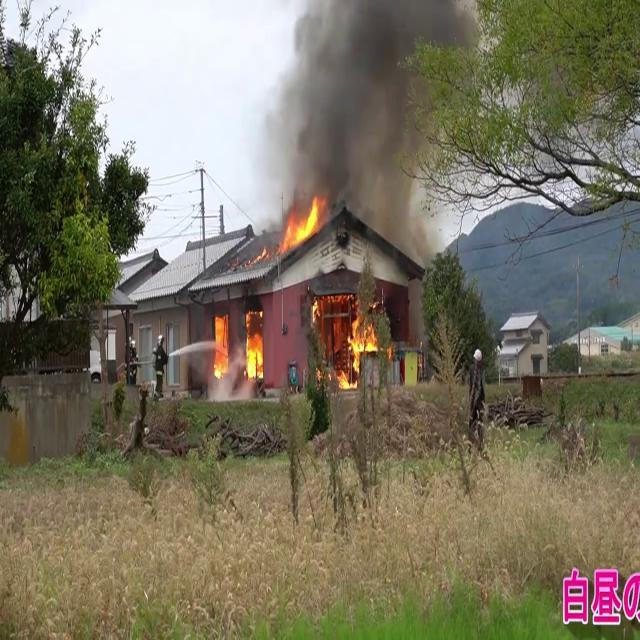Fire: (210, 312, 266, 390), (335, 310, 379, 390), (280, 193, 326, 256)
Smoke: (263, 0, 453, 234)
